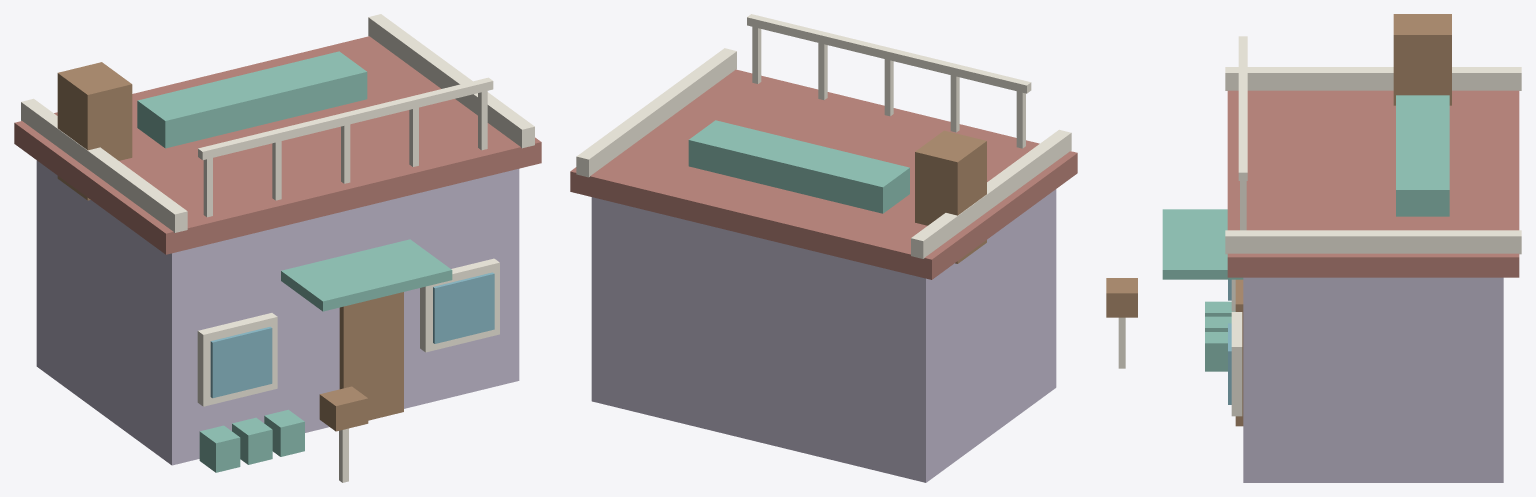
The model's file is home-14.glb.
3 renders of one model, left to right at view 1: azimuth 30°, elevation 25°; view 2: azimuth 150°, elevation 25°; view 3: azimuth 270°, elevation 25°, orthographic. The views are drawn at different scales.
Parts seen in each view (by area): view 1: individual walls.011, flat parapet roof.003, entrance awning.003, letterbox post.011, front door.013, window pane.006; view 2: individual walls.011, flat parapet roof.003, letterbox post.011, entrance awning.003, front door.013; view 3: individual walls.011, flat parapet roof.003, letterbox post.011, entrance awning.003, front door.013.
Part boxes in pixels (<box>): individual walls.011: <box>36,160,519,465</box>; flat parapet roof.003: <box>14,36,541,254</box>; entrance awning.003: <box>137,51,452,472</box>; letterbox post.011: <box>21,14,534,482</box>; front door.013: <box>57,62,403,431</box>; window pane.006: <box>210,272,494,398</box>; individual walls.011: <box>591,189,1056,482</box>; flat parapet roof.003: <box>570,69,1077,279</box>; letterbox post.011: <box>576,14,1071,258</box>; entrance awning.003: <box>688,120,909,213</box>; front door.013: <box>915,130,986,263</box>; individual walls.011: <box>1243,277,1503,482</box>; flat parapet roof.003: <box>1227,90,1519,277</box>; letterbox post.011: <box>1118,36,1521,416</box>; entrance awning.003: <box>1162,95,1449,371</box>; front door.013: <box>1106,14,1451,426</box>.
Size of the model in its own units: 4.65 by 3.72 by 4.62.
